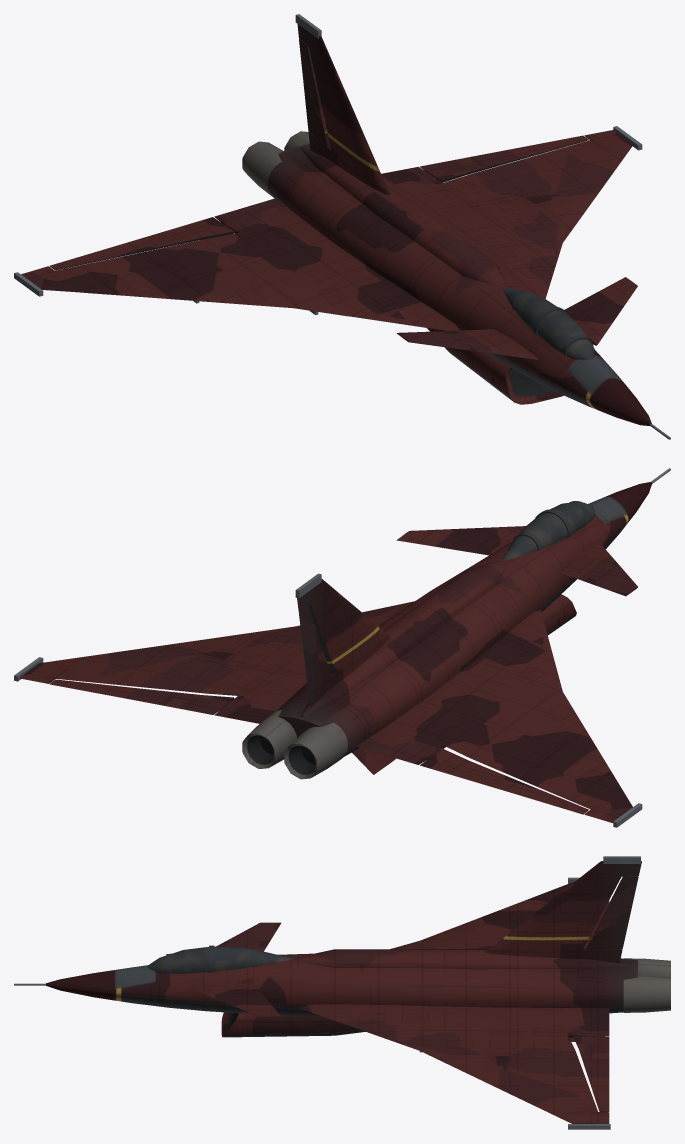
Rendered from vanta-rusk.fbx.
3 renders of one model, top to bottom at view 1: azimuth 30°, elevation 25°; view 2: azimuth 150°, elevation 25°; view 3: azimuth 270°, elevation 25°, orthographic. The views are drawn at different scales.
Visible parts, largest first — view 1: Body, Aileron_L, Elevator_R, Elevator_L, Aileron_R, Rudder; view 2: Body, Aileron_L, Elevator_R, Aileron_R, Elevator_L, Rudder; view 3: Body, Rudder, Aileron_R, Elevator_R, Elevator_L.
Part boxes in pixels (box(x1,y1,x2,y2)): Body: box(14, 14, 670, 439); Aileron_L: box(50, 217, 234, 270); Elevator_R: box(564, 277, 637, 345); Elevator_L: box(397, 329, 538, 359); Aileron_R: box(420, 135, 588, 182); Rudder: box(299, 39, 330, 147); Body: box(14, 468, 670, 827); Aileron_L: box(420, 748, 588, 814); Elevator_R: box(396, 526, 525, 555); Aileron_R: box(50, 679, 234, 714); Elevator_L: box(557, 540, 637, 596); Rudder: box(299, 606, 331, 691); Body: box(14, 856, 670, 1129); Rudder: box(585, 876, 638, 949); Aileron_R: box(573, 1036, 609, 1111); Elevator_R: box(186, 985, 280, 1017); Elevator_L: box(216, 922, 281, 951).
Bounding box in the file's own units: 693 × 225 × 777.
Materials: 1 (1 with a texture image).
